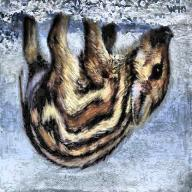boar: (16, 0, 173, 184)
